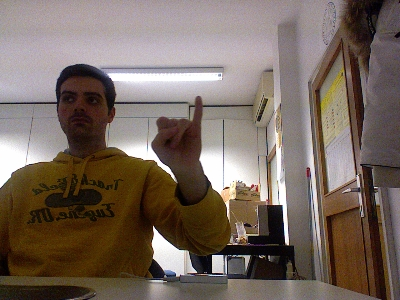小指: (149, 94, 203, 167)
